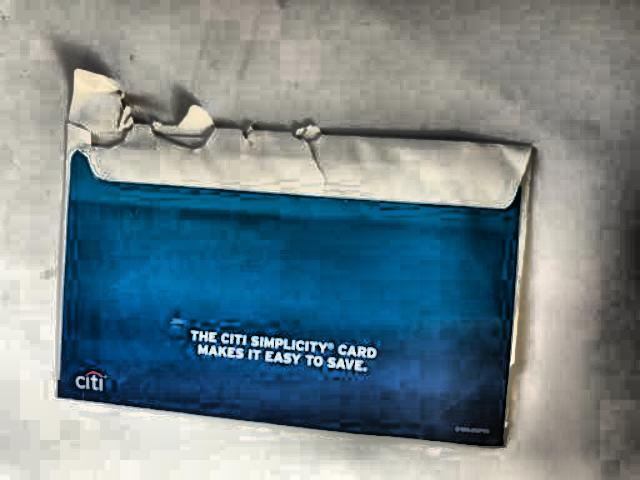Paper: (42, 57, 539, 463)
